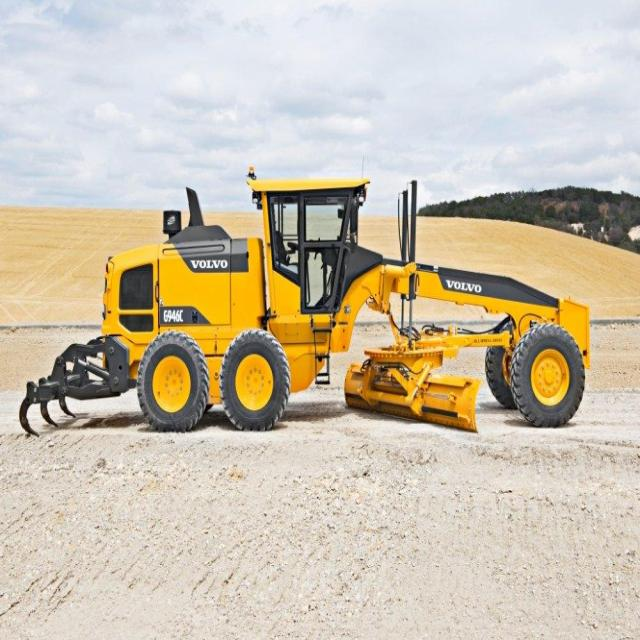Grader: (26, 161, 615, 442)
